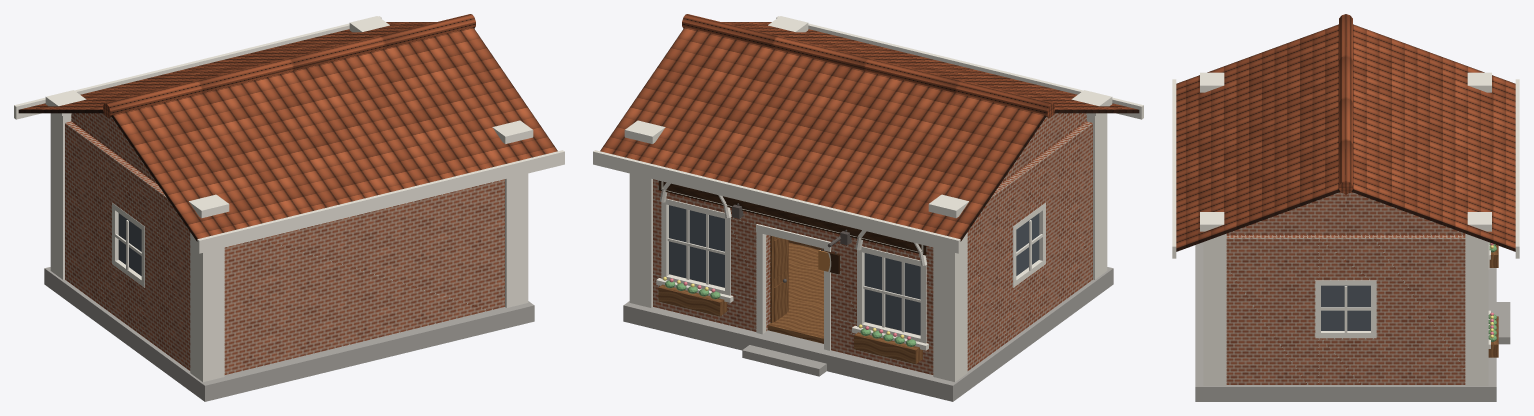
Rendered from roti-kopi-toko-blender-v2.glb.
The picture shows the model from 3 angles, left to right: view 1: azimuth 30°, elevation 25°; view 2: azimuth 150°, elevation 25°; view 3: azimuth 270°, elevation 25°; orthographic projection. The views are drawn at different scales.
Parts seen in each view (by area): view 1: toko_roof, toko_brick, toko_cream, toko_stone, toko_glass; view 2: toko_roof, toko_brick, toko_cream, toko_stone, toko_glass, toko_wood, toko_sign, toko_plant; view 3: toko_roof, toko_brick, toko_cream, toko_stone, toko_glass, toko_wood.
Part boxes in pixels (x1,y1,x2,y2): toko_roof: [18, 14, 557, 241]; toko_brick: [65, 113, 504, 374]; toko_cream: [14, 16, 564, 381]; toko_stone: [44, 267, 534, 401]; toko_glass: [118, 213, 141, 275]; toko_roof: [600, 14, 1139, 241]; toko_brick: [653, 113, 1092, 374]; toko_cream: [593, 16, 1143, 381]; toko_stone: [623, 267, 1113, 401]; toko_glass: [669, 205, 1039, 335]; toko_wood: [658, 235, 922, 364]; toko_sign: [658, 180, 926, 274]; toko_plant: [663, 276, 915, 346]; toko_roof: [1176, 14, 1515, 251]; toko_brick: [1226, 192, 1465, 384]; toko_cream: [1172, 72, 1519, 385]; toko_stone: [1195, 242, 1510, 401]; toko_glass: [1321, 285, 1370, 330]; toko_wood: [1488, 245, 1498, 357].
Size of the model in its own units: 7.1 by 4.53 by 6.23.
17 materials, 5 textured.
